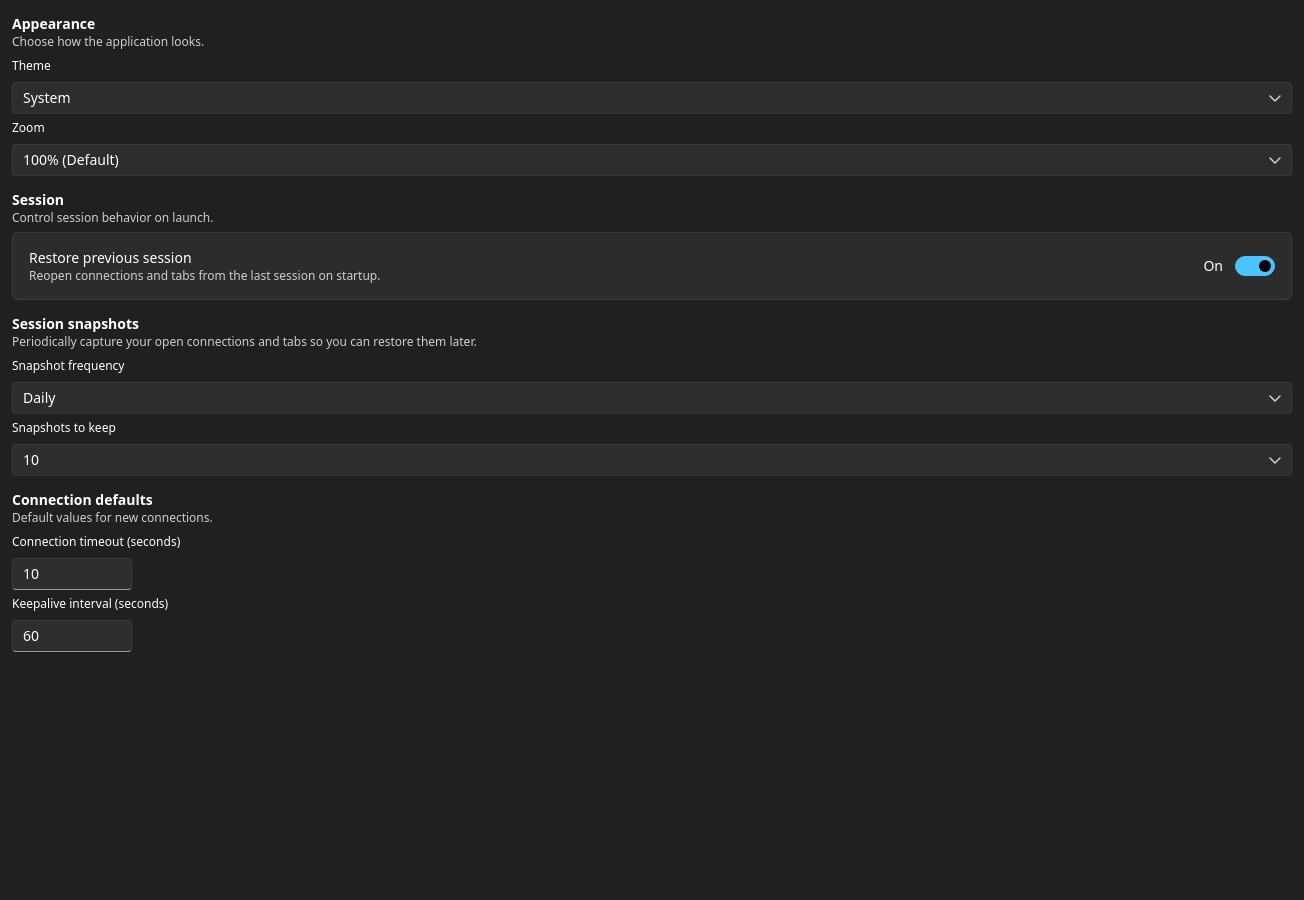
it: GeneralSettings › renders the zoom dropdown with all 9 options
Click the dropdown with test id "settings-zoom-dropdown": (71, 160) [12, 144, 1292, 176]
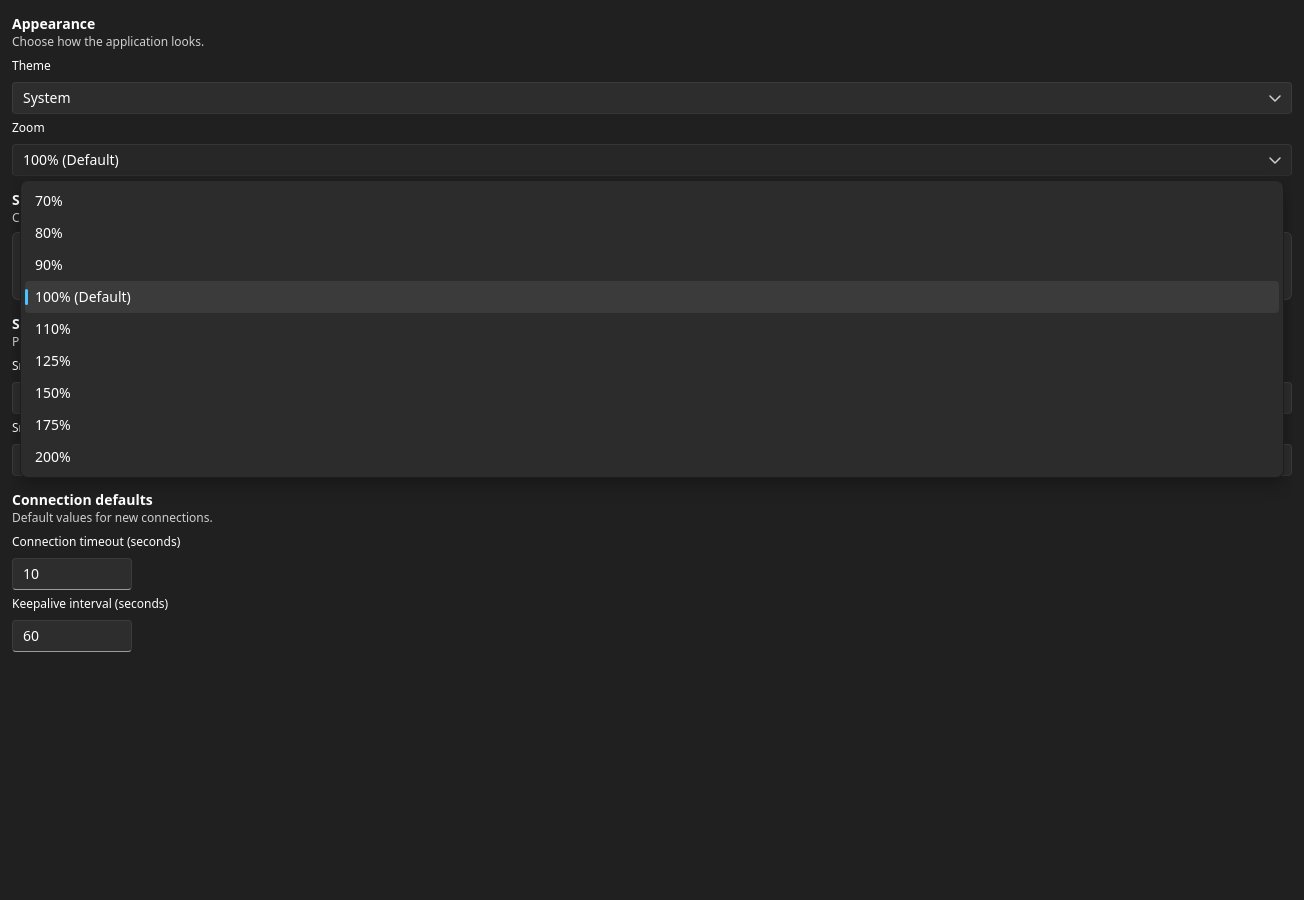
Expected: the option "70%" is shown, [35, 191, 63, 210]
Expected: the option "80%" is shown, [35, 223, 63, 242]
Expected: the option "90%" is shown, [35, 255, 63, 274]
